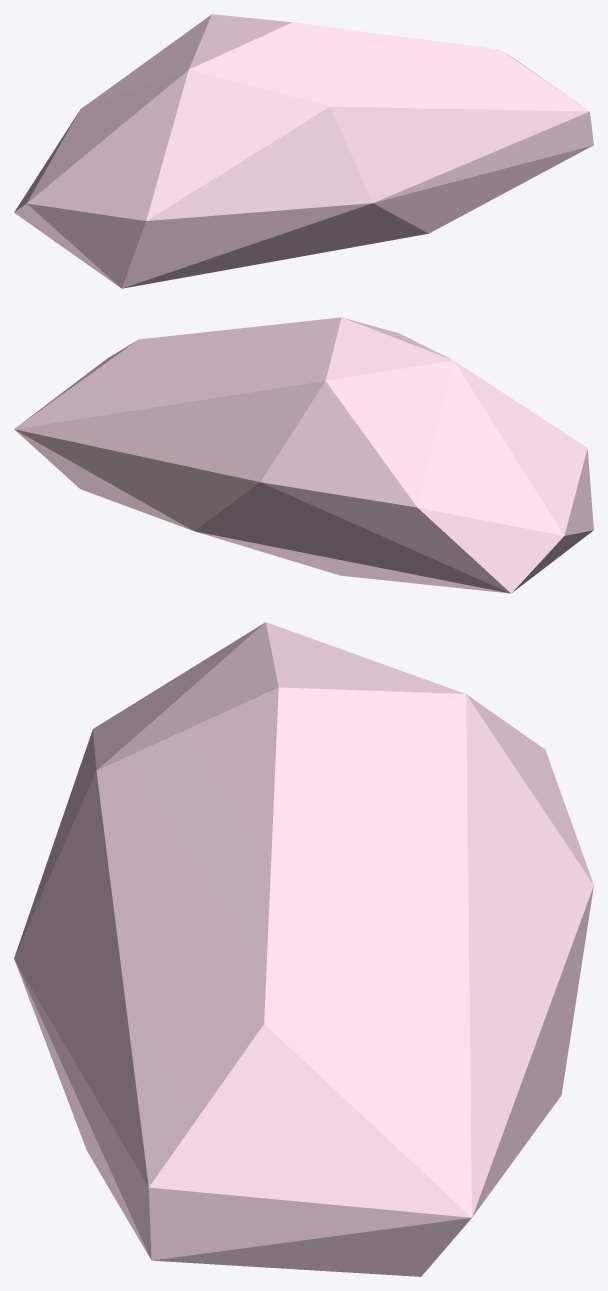
File: cloud_9.fbx
The picture shows the model from 3 angles, top to bottom: view 1: azimuth 30°, elevation 25°; view 2: azimuth 150°, elevation 25°; view 3: azimuth 270°, elevation 25°; orthographic projection. The views are drawn at different scales.
Parts seen in each view (by area): view 1: cloud_9; view 2: cloud_9; view 3: cloud_9.
Boxes of the visible parts, x1,y1,x2,y2 form: cloud_9: (14, 14, 593, 288); cloud_9: (14, 317, 593, 593); cloud_9: (14, 622, 593, 1276).
Size of the model in its own units: 549 by 239 by 276.
